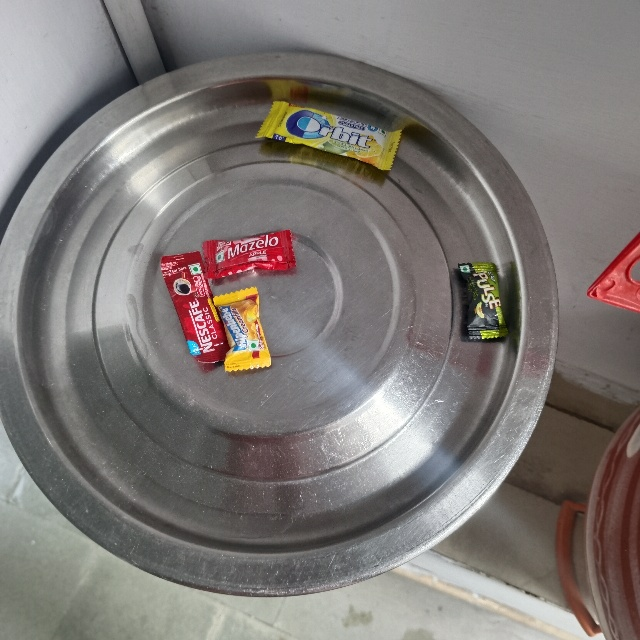Alpenlibe Creamfills: (211, 293, 255, 375)
Mazelo: (202, 242, 294, 284)
Nescafe Coffee: (157, 263, 199, 374)
Orbit: (274, 92, 410, 135)
Pulse: (455, 261, 505, 339)
